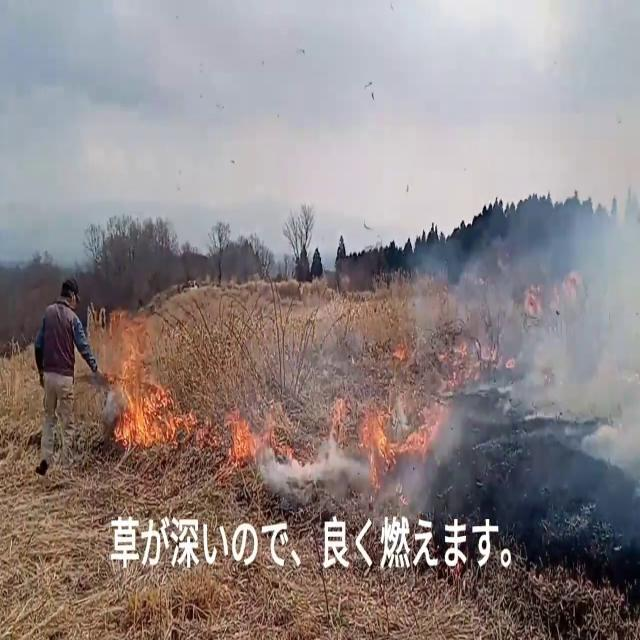Fire: (103, 298, 184, 451), (351, 380, 414, 488), (233, 403, 300, 489)
Smoke: (415, 111, 640, 541)
